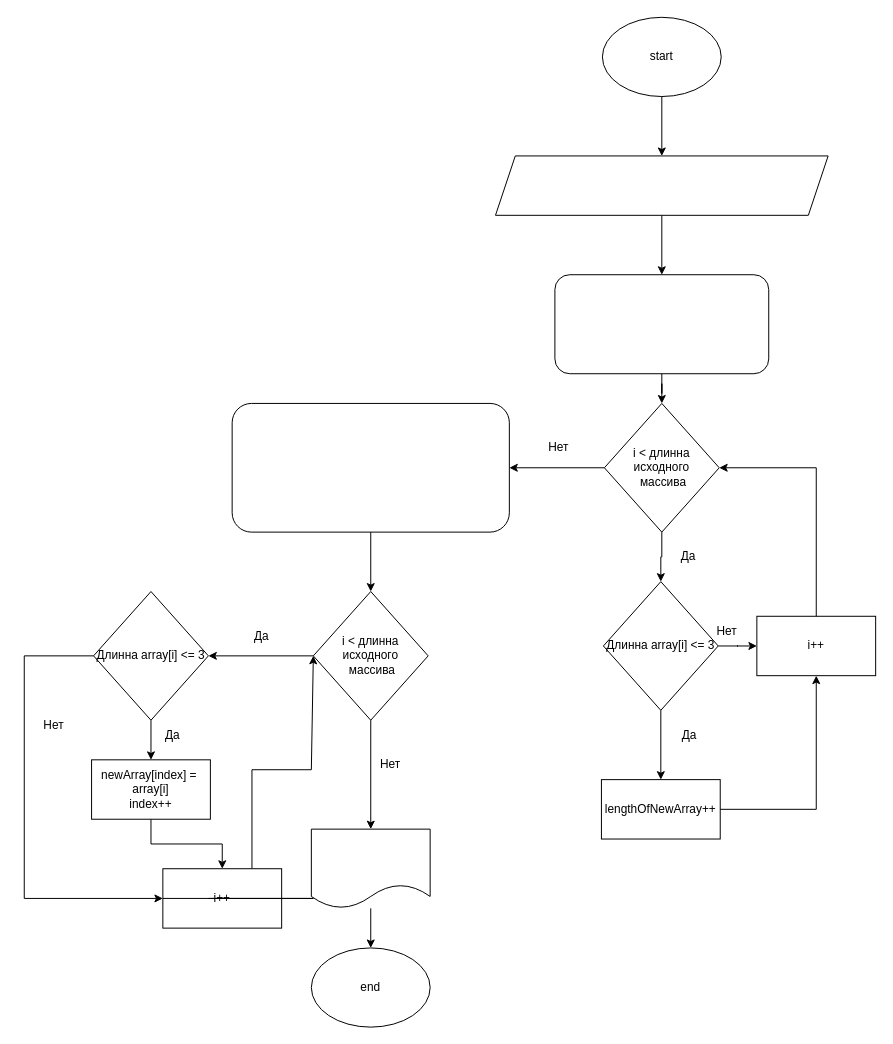
Some shapes in this 893 by 1044 pixel diagram are drawn without their labels. Here are the shapes that lost their labels. From the top down, the centre of each, then its label:
At point (661, 185): "Вывожу длину массива(10) и задаём элементы (array), вывожу массив на кэран".
At point (661, 324): "Найдем длину нового массива lengthOfNewArray = 0 i = 0".
At point (370, 467): "Создаем пустой массив найденной длинны newArray i = 0 index = 0".
At point (370, 868): "print newArray".
